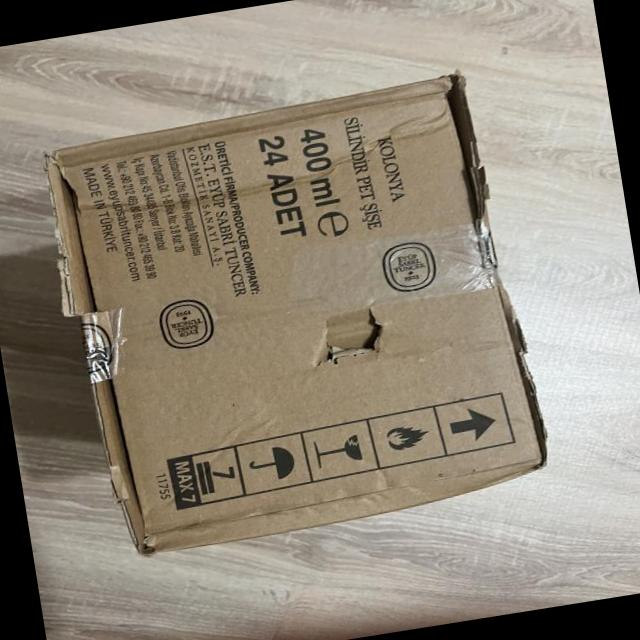box: (90, 75, 560, 577)
